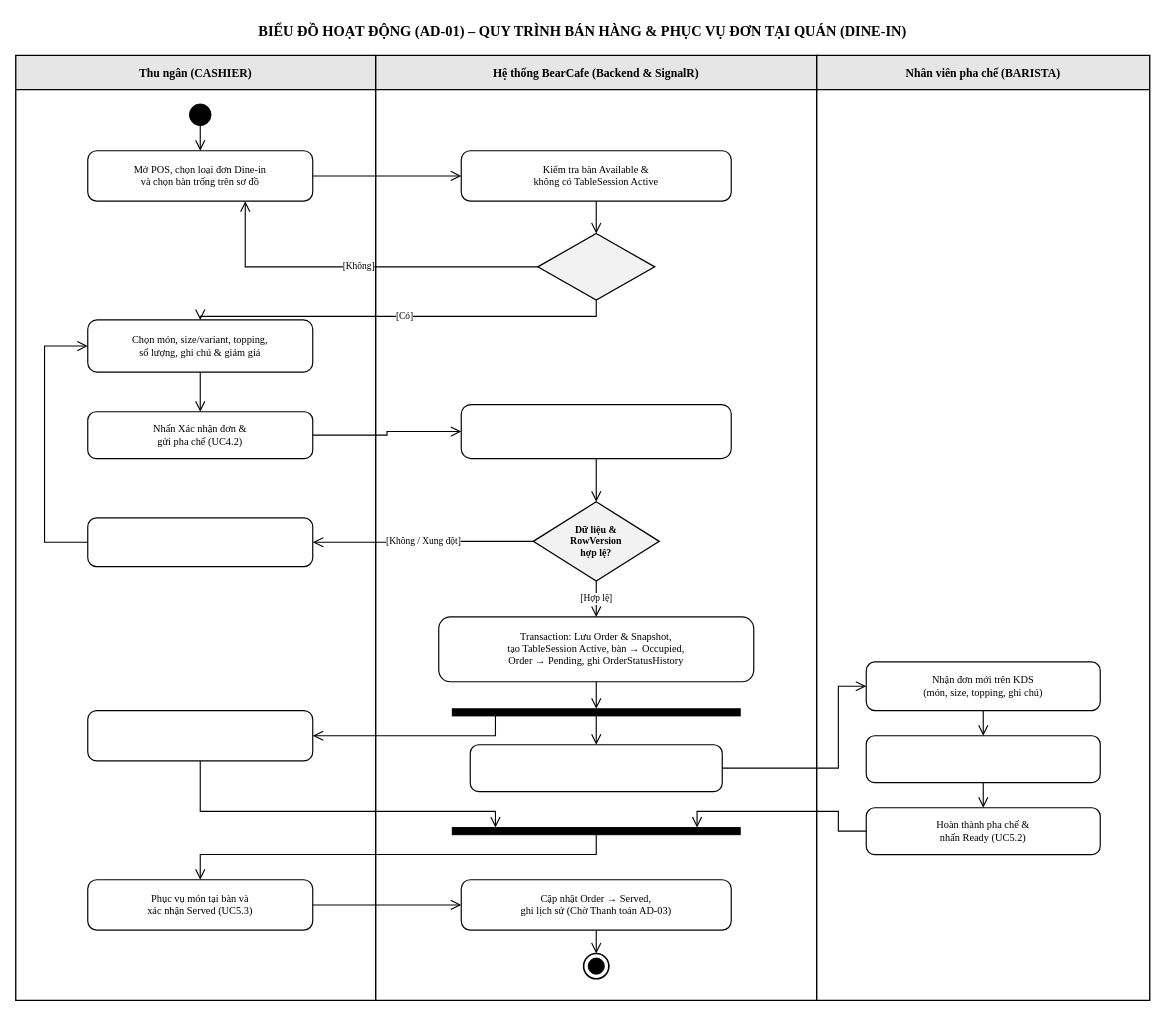
This 1166x1016 diagram has some shape labels left out. Here are the shapes that lost their labels. From the top down, the centre of each, then its label:
the point at 596,266: Bàn trống hợp lệ?
the point at 595,431: Kiểm tra quyền, món còn bán, tự truy vấn giá & tính tổng tiền
the point at 200,542: Nhận thông báo lỗi bàn/món và chọn lại cho hợp lệ
the point at 200,735: Hiển thị Order DTO trên POS (Bàn chuyển Occupied)
the point at 595,768: Đẩy đơn hàng realtime tới Kitchen Display (SignalR)
the point at 982,759: Nhấn Bắt đầu pha chế (Order → Preparing)
